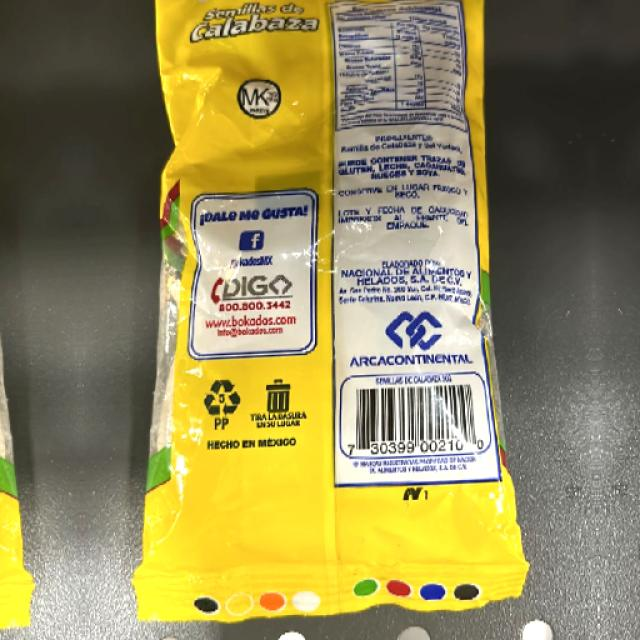semillasCalabaza: (183, 0, 494, 594)
